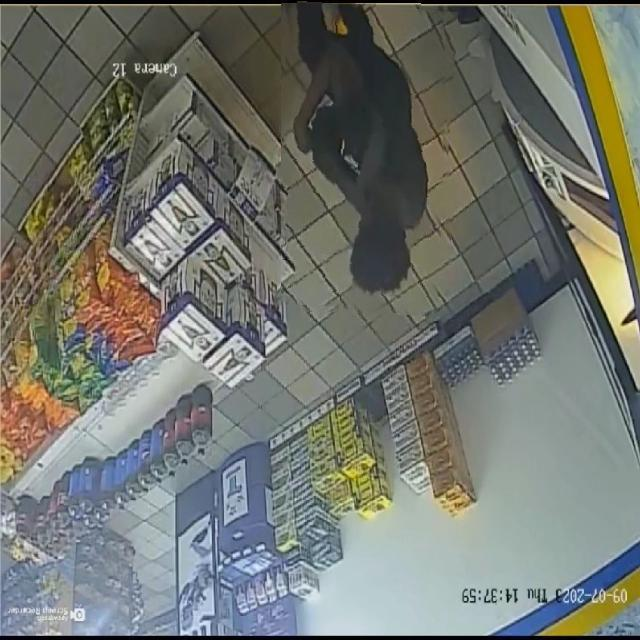Normal: (281, 3, 453, 315)
